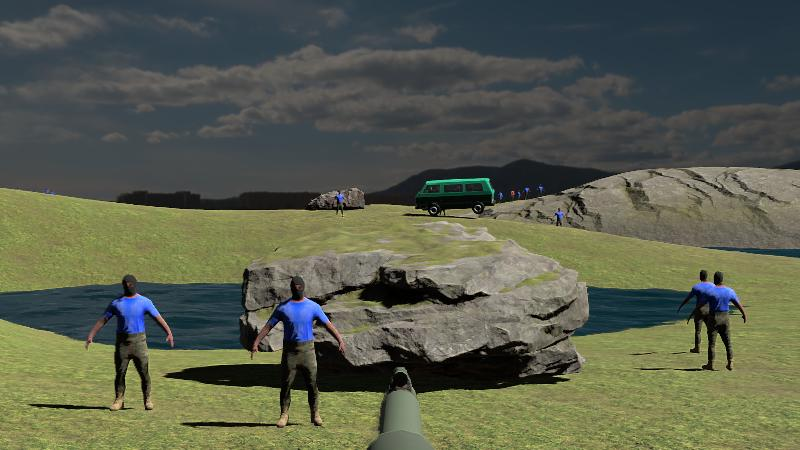Human: (253, 275, 345, 430), (86, 272, 173, 413), (687, 271, 746, 371), (677, 269, 735, 354)
car: (415, 178, 495, 216)
